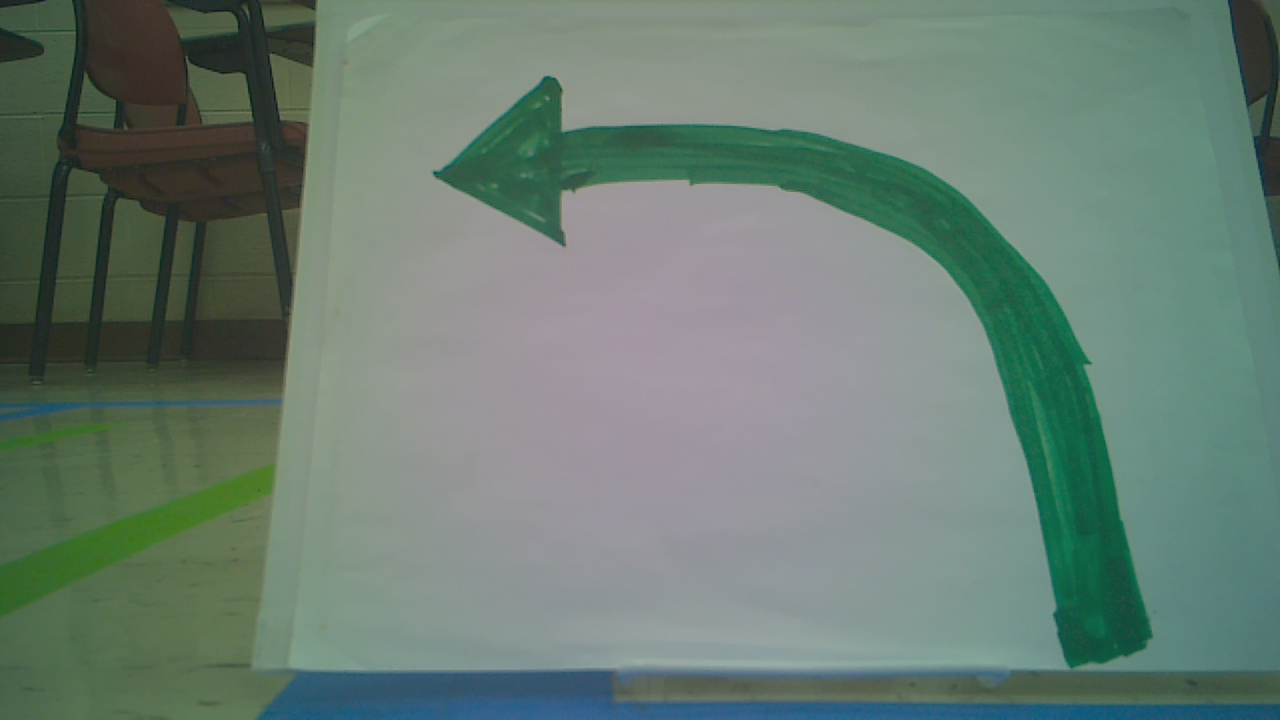left: (417, 59, 1166, 667)
